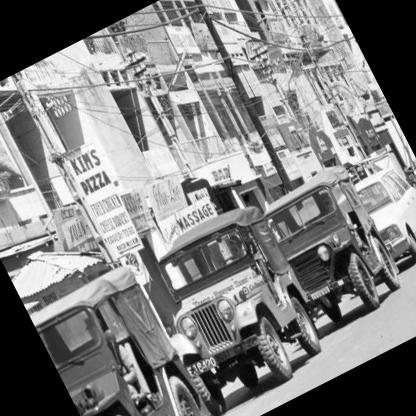car: (137, 194, 337, 416), (18, 236, 229, 416), (252, 147, 416, 335)
